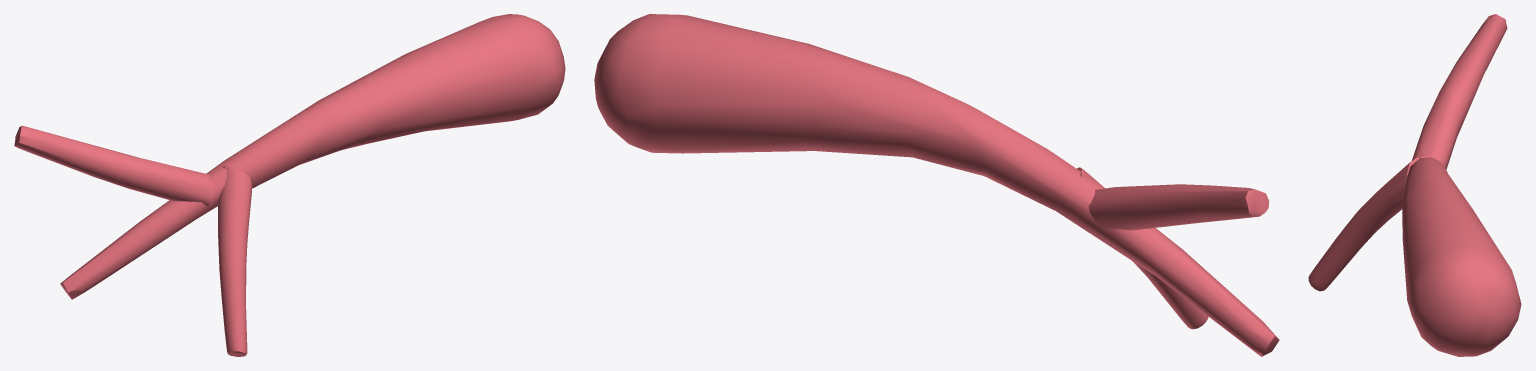
The model's file is fma68677_cx178.glb.
The picture shows the model from 3 angles, left to right: view 1: azimuth 30°, elevation 25°; view 2: azimuth 150°, elevation 25°; view 3: azimuth 270°, elevation 25°; orthographic projection. The views are drawn at different scales.
Parts seen in each view (by area): view 1: FMA68677_CX178; view 2: FMA68677_CX178; view 3: FMA68677_CX178.
Part boxes in pixels (box(x1,y1,x2,y2)): FMA68677_CX178: box(14, 14, 565, 356); FMA68677_CX178: box(594, 14, 1279, 356); FMA68677_CX178: box(1308, 14, 1521, 356).
Bounding box in the file's own units: 0.0537 × 0.02 × 0.018.
